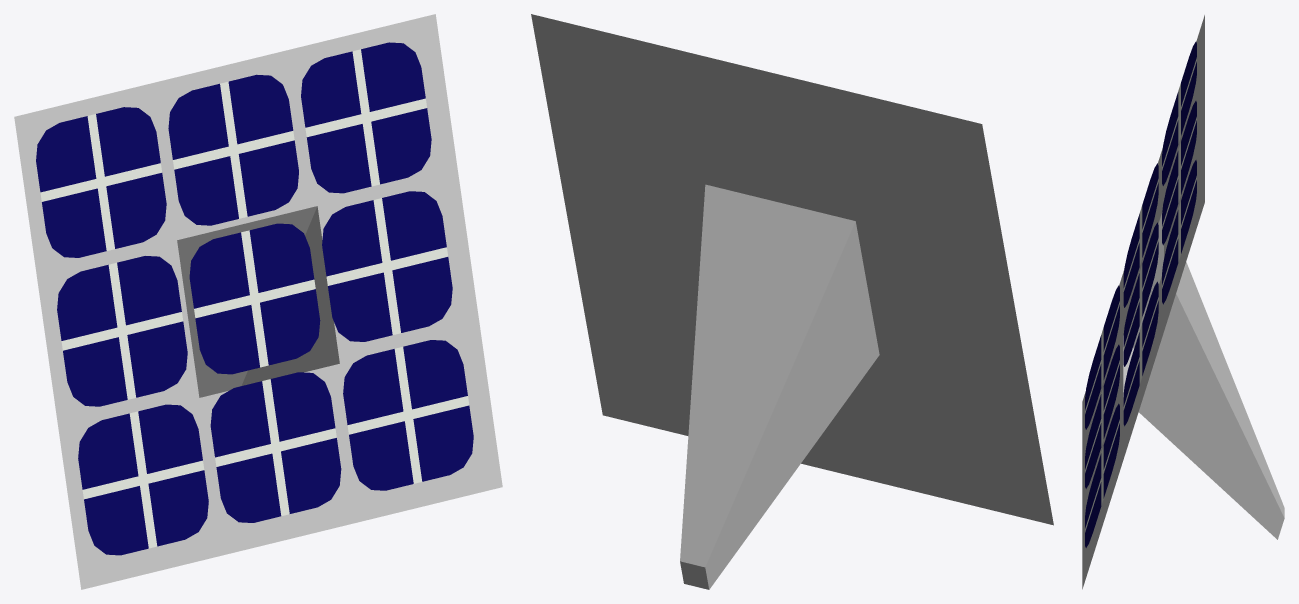
Rendered from solar panel .fbx.
3 renders of one model, left to right at view 1: azimuth 30°, elevation 25°; view 2: azimuth 150°, elevation 25°; view 3: azimuth 270°, elevation 25°, orthographic. The views are drawn at different scales.
Parts seen in each view (by area): view 1: Plane, Plane.001; view 2: Plane.001; view 3: Plane.001, Plane.
Boxes of the visible parts, x1,y1,x2,y2 form: Plane: [36, 42, 473, 555]; Plane.001: [14, 14, 502, 589]; Plane.001: [531, 14, 1053, 589]; Plane.001: [1082, 15, 1284, 589]; Plane: [1085, 42, 1196, 547].
Size of the model in its own units: 700 by 728 by 318.
